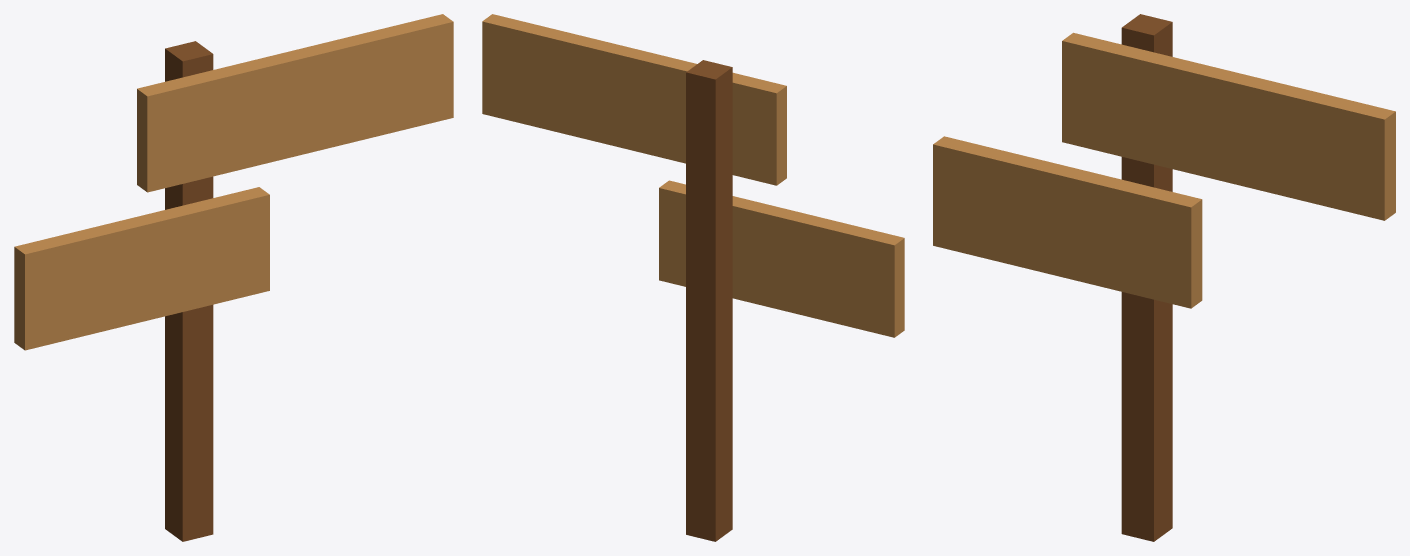
Rendered from oasis_sign.fbx.
The picture shows the model from 3 angles, left to right: view 1: azimuth 30°, elevation 25°; view 2: azimuth 150°, elevation 25°; view 3: azimuth 330°, elevation 25°; orthographic projection. The views are drawn at different scales.
Visible parts, largest first — view 1: oasis_sign; view 2: oasis_sign; view 3: oasis_sign.
Part boxes in pixels (box(x1,y1,x2,y2)): oasis_sign: box(14, 14, 453, 541); oasis_sign: box(482, 14, 904, 541); oasis_sign: box(933, 14, 1395, 541).
Bounding box in the file's own units: 1.4 × 1.5 × 0.16.
